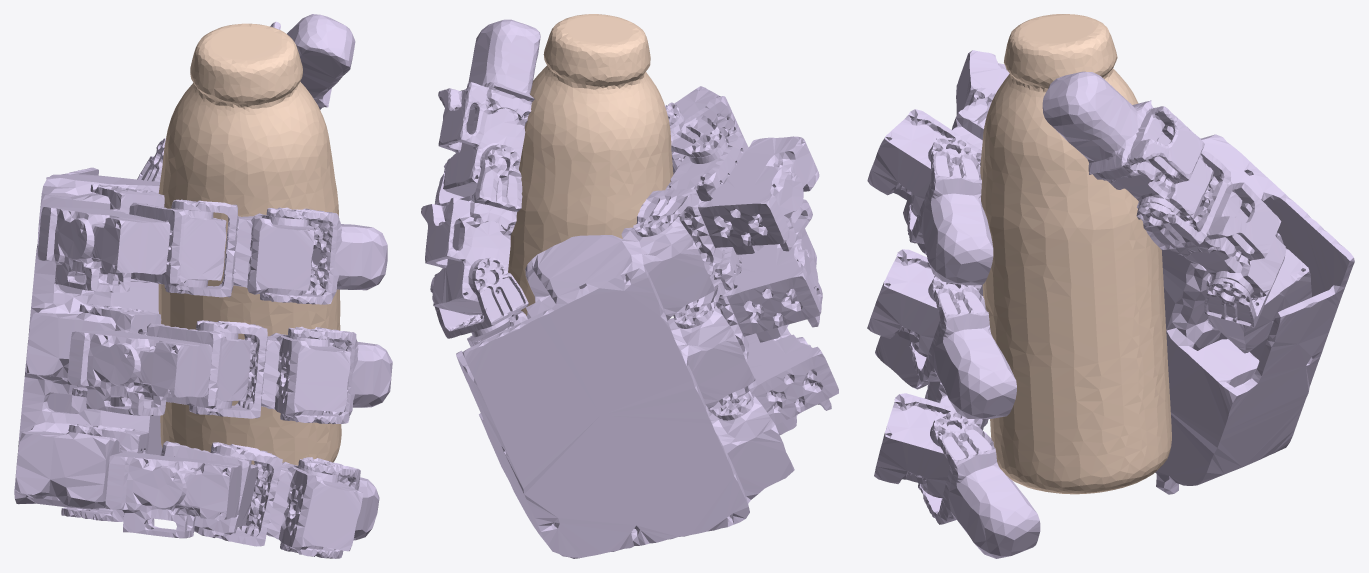
The model's file is 7661d80a51e249-closed.glb.
3 renders of one model, left to right at view 1: azimuth 30°, elevation 25°; view 2: azimuth 150°, elevation 25°; view 3: azimuth 270°, elevation 25°, orthographic. The views are drawn at different scales.
Parts seen in each view (by area): view 1: LEAP_hand, world; view 2: LEAP_hand, world; view 3: LEAP_hand, world.
Part boxes in pixels (bbox=[...]): LEAP_hand: bbox=[14, 14, 392, 558]; world: bbox=[158, 23, 341, 465]; LEAP_hand: bbox=[421, 19, 838, 558]; world: bbox=[508, 14, 673, 316]; LEAP_hand: bbox=[867, 50, 1354, 558]; world: bbox=[980, 14, 1171, 494].
Bounding box in the file's own units: 0.15 × 0.2045 × 0.184.
